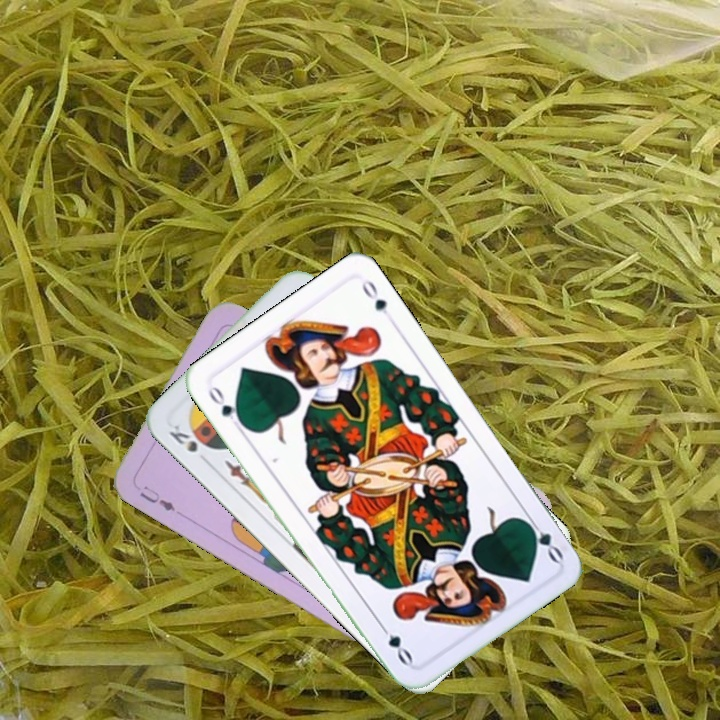EU: (135, 481, 178, 514)
GO: (520, 512, 566, 565), (204, 381, 248, 434)
SK: (164, 420, 201, 455)
